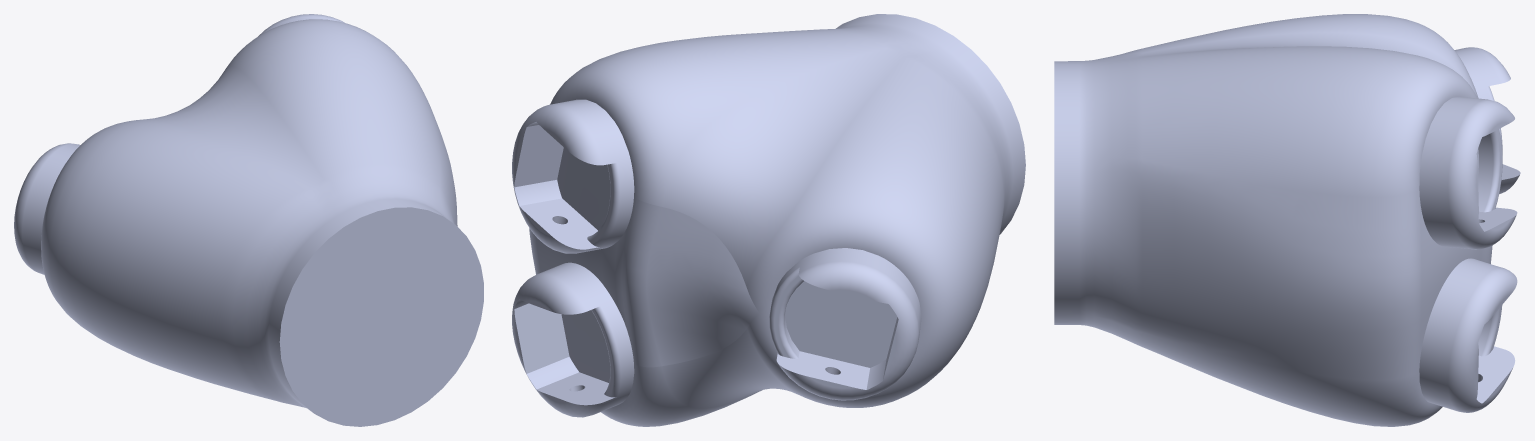
Rendered from jaco_link_hand.dae.
3 views of the same model, side by side, from view 1: azimuth 30°, elevation 25°; view 2: azimuth 150°, elevation 25°; view 3: azimuth 270°, elevation 25° (orthographic). The views are drawn at different scales.
Parts seen in each view (by area): view 1: Actor0; view 2: Actor0; view 3: Actor0.
Boxes of the visible parts, x1,y1,x2,y2 form: Actor0: [14, 14, 483, 426]; Actor0: [512, 14, 1025, 426]; Actor0: [1054, 14, 1520, 426].
Bounding box in the file's own units: 0.1165 × 0.0928 × 0.1113.
